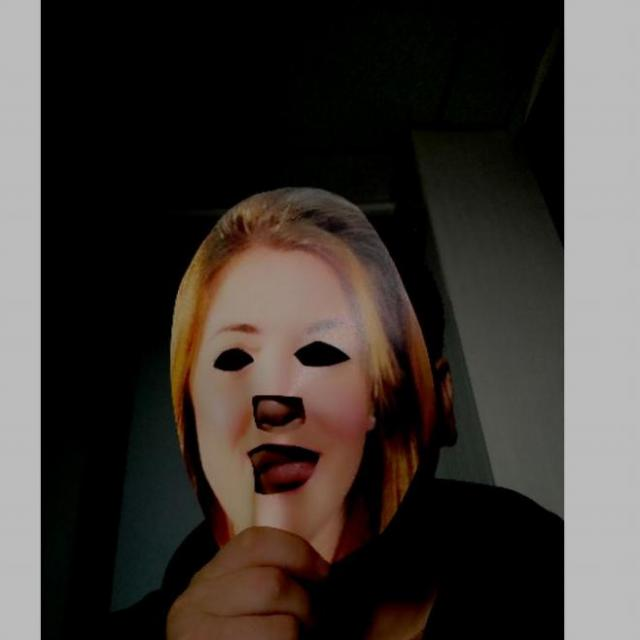mask: (167, 184, 440, 570)
